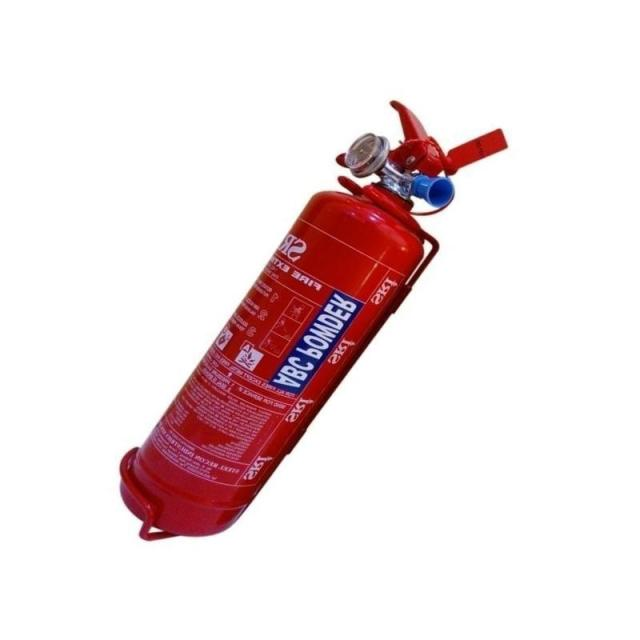fire_extinguisher: (110, 95, 512, 546)
